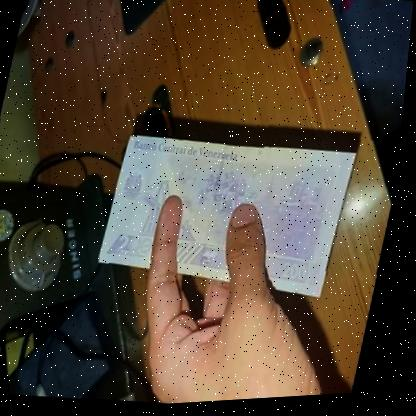two_hundred-back-vef: (94, 123, 362, 313)
